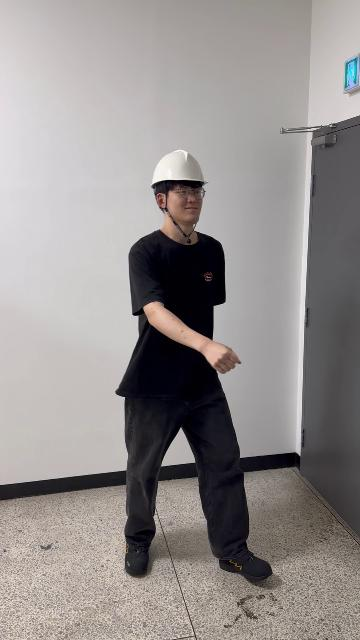helmet_worn: (152, 151, 209, 186)
shoe_worn: (219, 551, 276, 587), (123, 537, 153, 577)
vest_not_worn: (129, 232, 224, 412)
